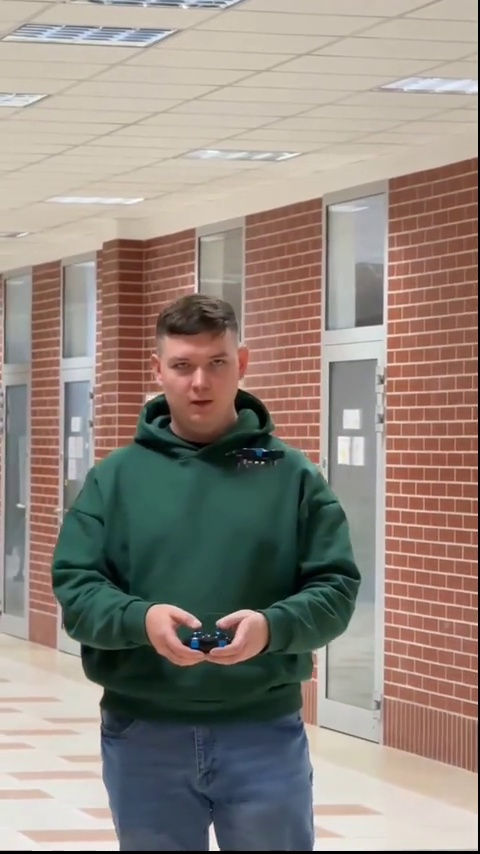drone: (231, 447, 285, 472)
no vest: (54, 295, 362, 829)
